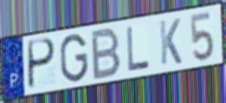5: (189, 9, 216, 63)
B: (91, 26, 123, 82)
G: (58, 32, 90, 84)
K: (158, 17, 183, 67)
L: (125, 25, 151, 73)
P: (27, 37, 58, 92)
